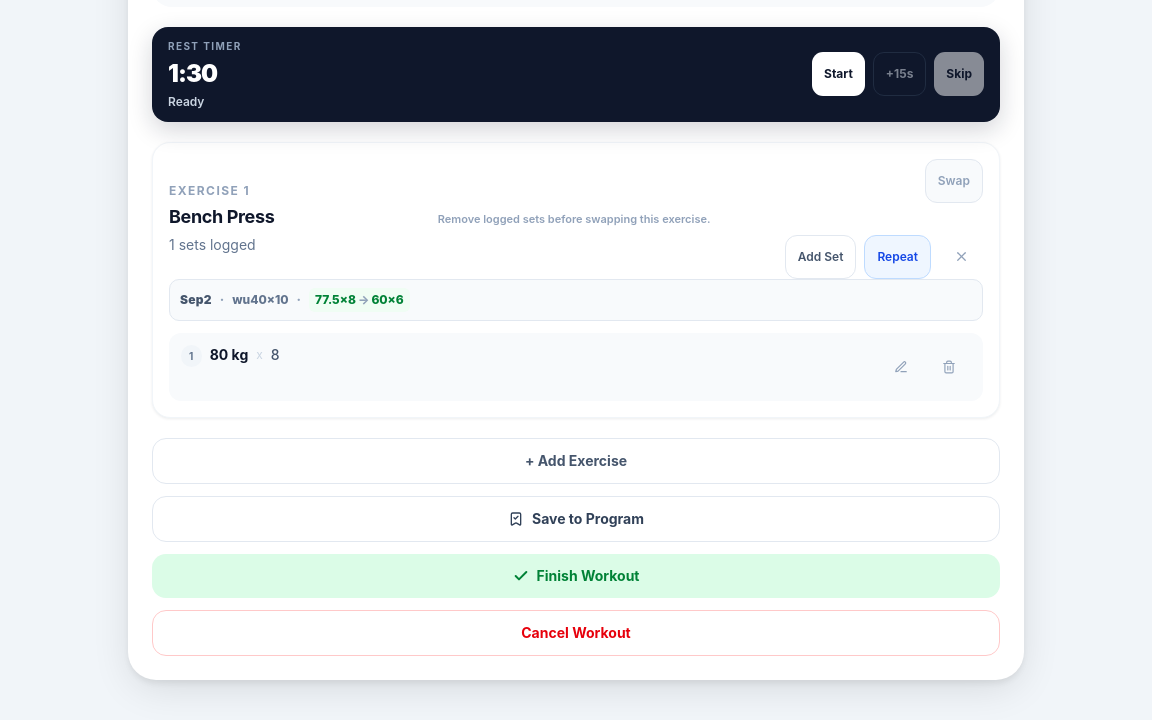
Test: WorkoutPage regression coverage › completes the workout once when the confirmation is confirmed
The width and height of the screenshot is (1152, 720).
(page scrolled)
Click the button "Finish Workout" at (576, 576), box [152,554,1000,598]
(page scrolled)
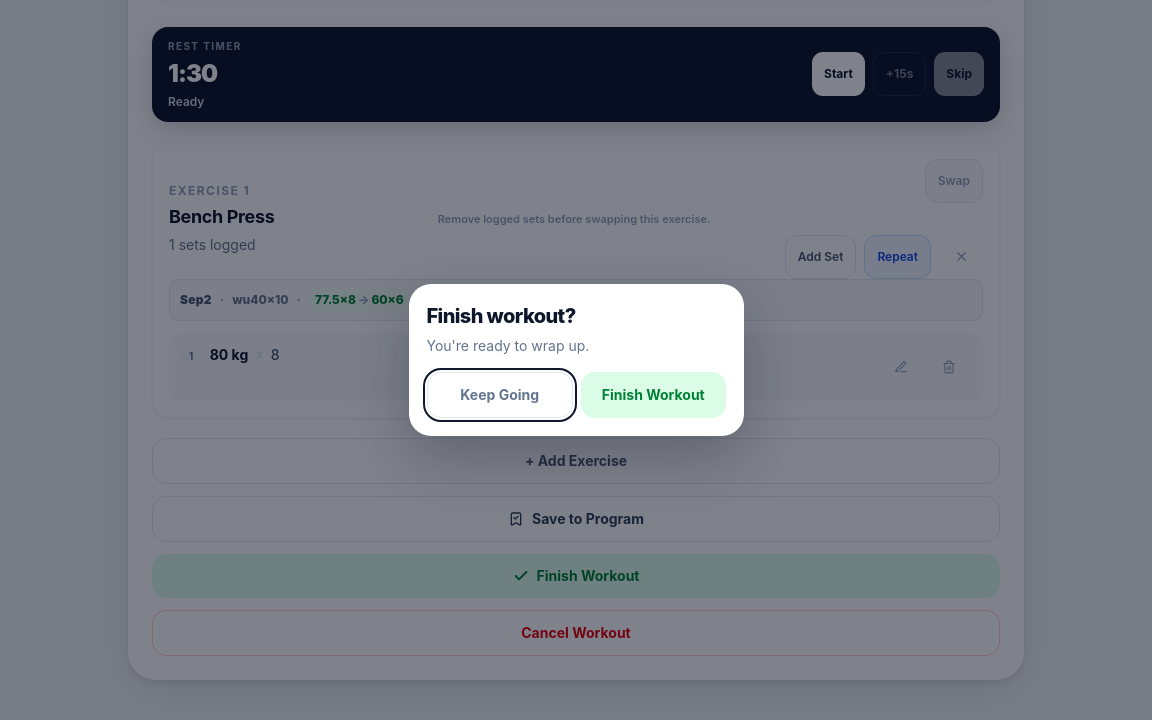
Click the button "Finish Workout" at (653, 395), box [581,372,726,418]
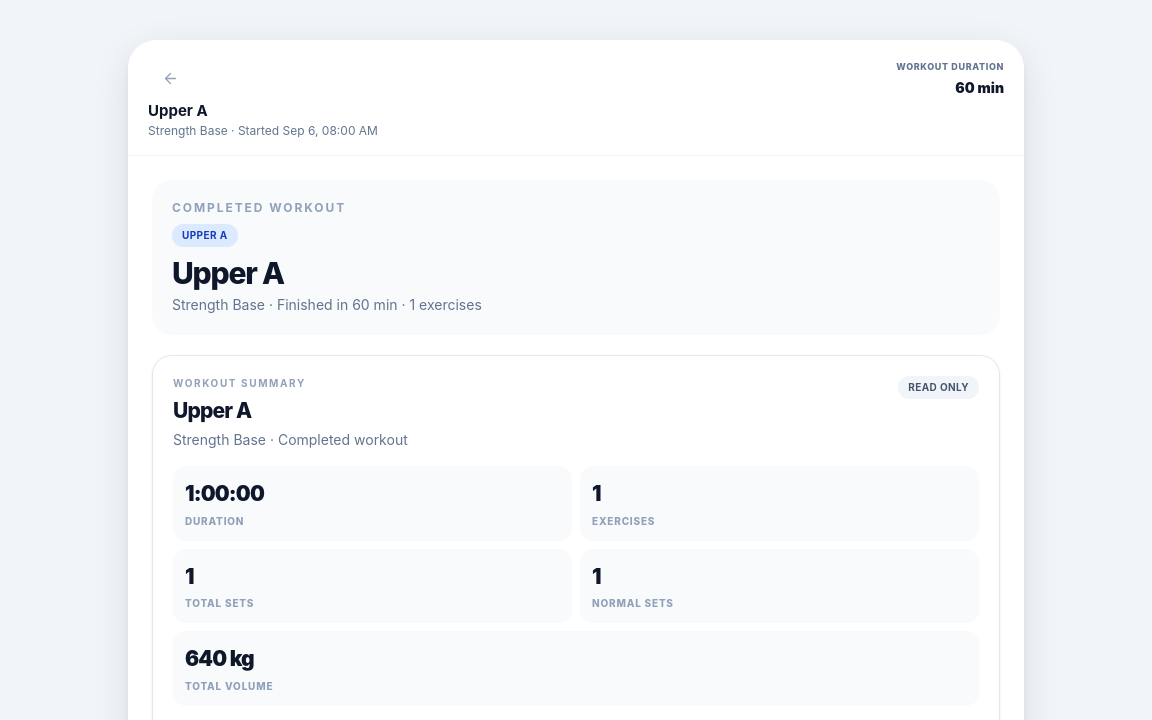
Expected: the text "Completed workout" is shown, [172,200,346,214]
